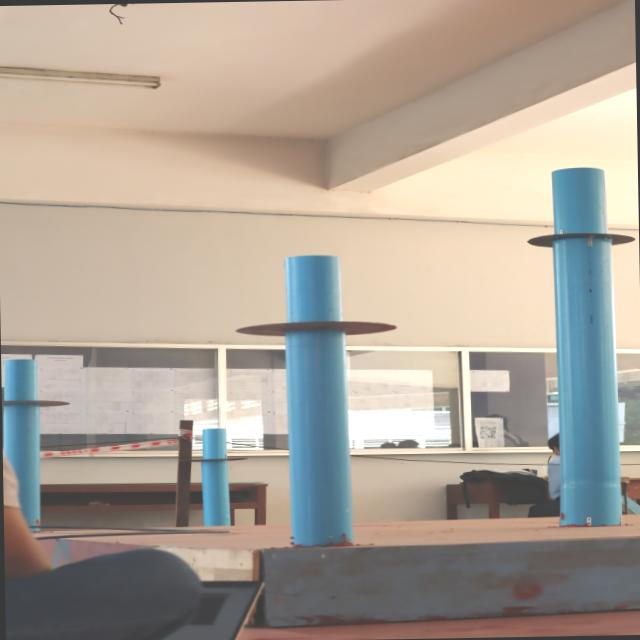pole: (232, 255, 394, 392), (522, 172, 640, 298), (2, 354, 68, 442), (184, 420, 264, 486)
